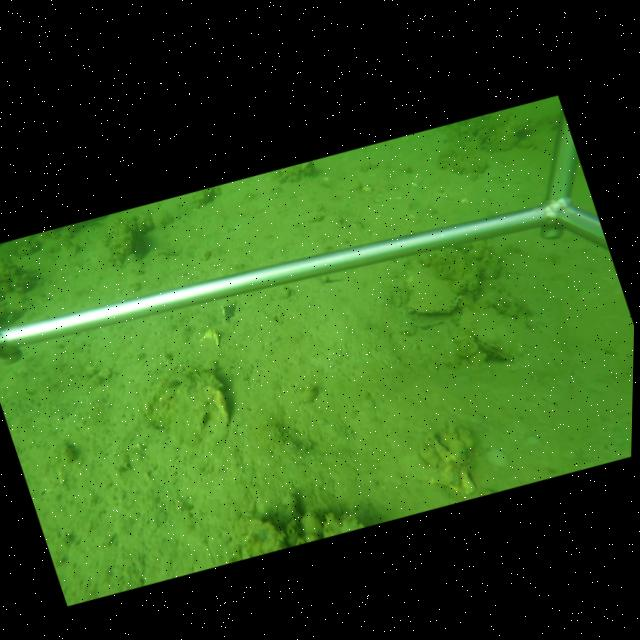Oyster-Closed: (456, 302, 525, 362), (403, 258, 464, 315)
